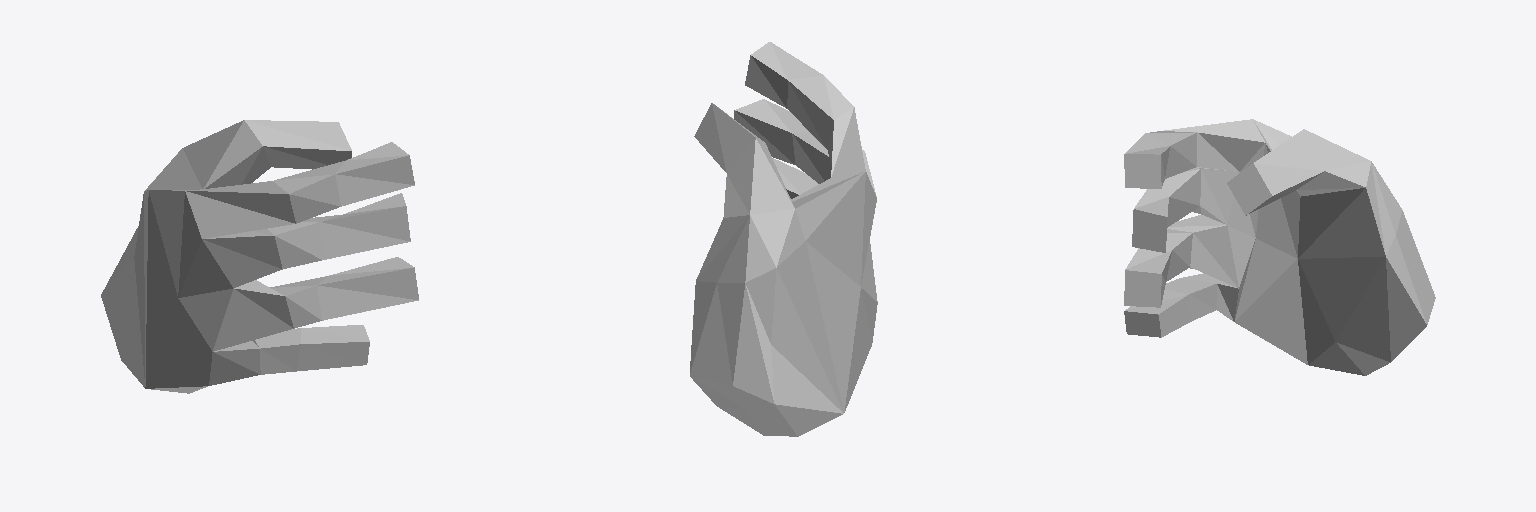
File: ClarinetRightHand5.obj
3 views of the same model, side by side, from view 1: azimuth 30°, elevation 25°; view 2: azimuth 150°, elevation 25°; view 3: azimuth 270°, elevation 25° (orthographic).
Visible parts, largest first — view 1: ClarinetRightHand6_RecorderHandLeft0.029; view 2: ClarinetRightHand6_RecorderHandLeft0.029; view 3: ClarinetRightHand6_RecorderHandLeft0.029.
Boxes of the visible parts, x1=… form: ClarinetRightHand6_RecorderHandLeft0.029: x1=101, y1=120, x2=418, y2=393; ClarinetRightHand6_RecorderHandLeft0.029: x1=690, y1=42, x2=877, y2=436; ClarinetRightHand6_RecorderHandLeft0.029: x1=1124, y1=119, x2=1435, y2=375.
Bounding box in the file's own units: 3.1 × 4.41 × 4.48.